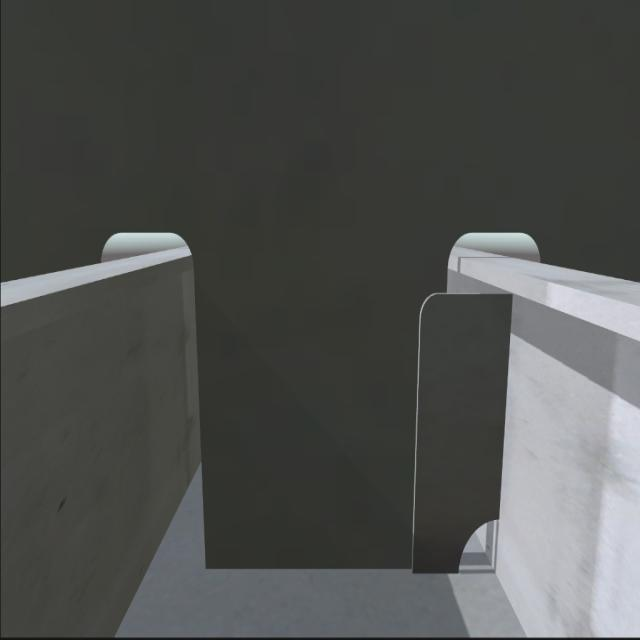fillet_hole: (458, 515, 497, 574)
fillet_yong_jeop_jang: (200, 550, 462, 580)
longi_yong_jeop_jang: (493, 286, 512, 515)
plate_CP05: (415, 292, 508, 574)
